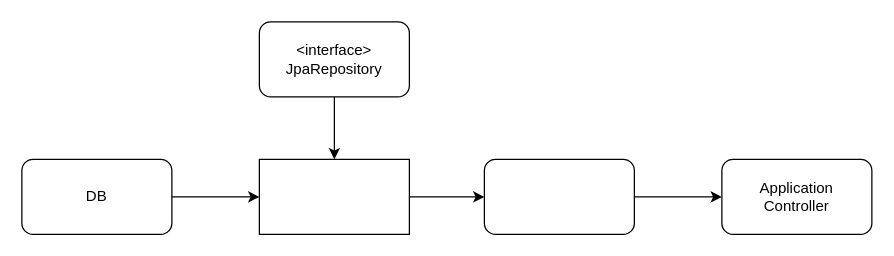
The diagram is 894 pixels wide and 256 high, and some of its shapes have lost their labels. Each missing label, with the centre of its shape:
<interface> DB_Repository: point (333, 196)
Repository_Service: point (558, 196)
